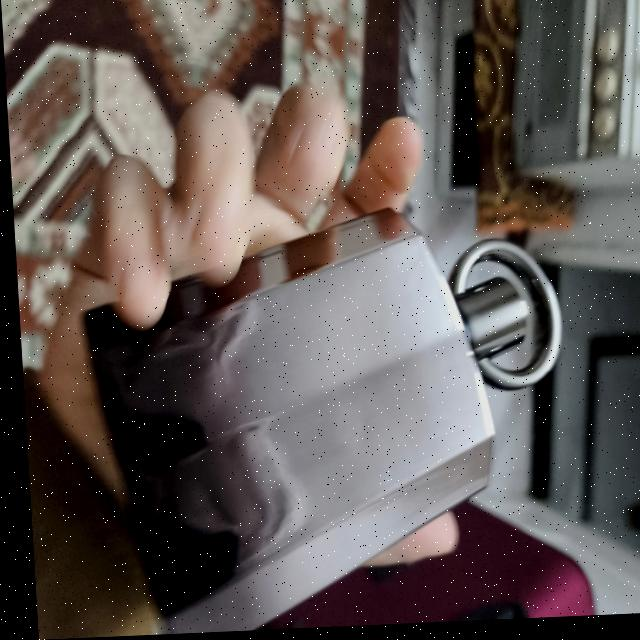Afnan: (77, 205, 573, 636)
